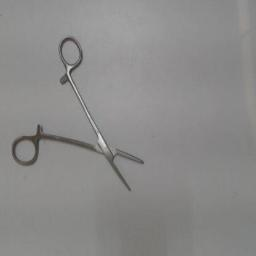Mayo Needle Holder: (10, 30, 152, 202)
